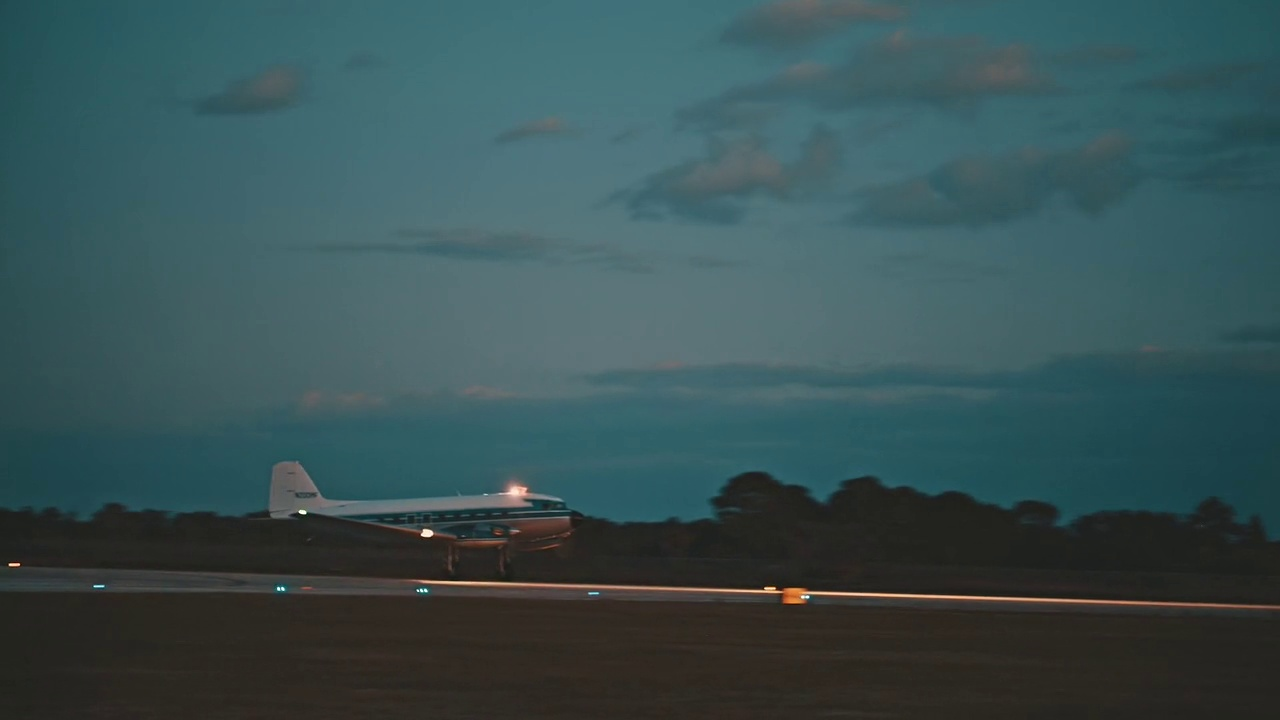plane: (248, 461, 584, 582)
